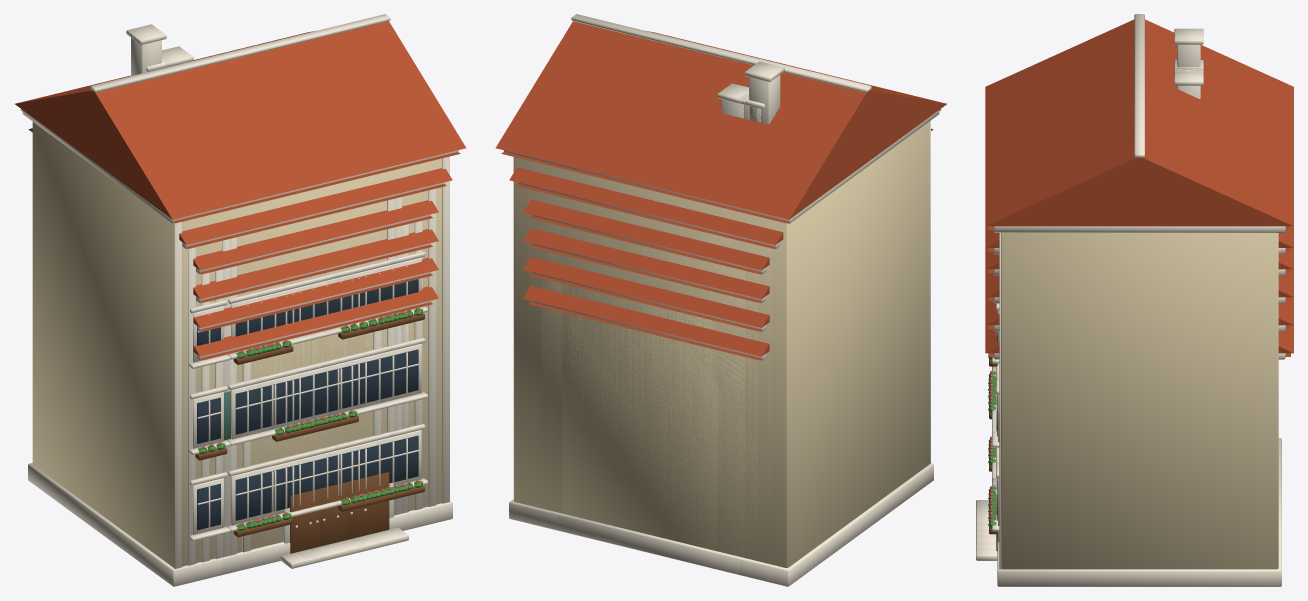
Rendered from Houses.fbx.
The picture shows the model from 3 angles, left to right: view 1: azimuth 30°, elevation 25°; view 2: azimuth 150°, elevation 25°; view 3: azimuth 270°, elevation 25°; orthographic projection. The views are drawn at different scales.
Parts seen in each view (by area): view 1: House_10_13, House_8_10, House_9_12, House_7_11, House_6p5_12, House_5_9, House_6_12, House_6_10, House_8_11, House_7_8, House_7_9, House_6_8 (+4 smaller); view 2: House_10_13, House_9_12, House_7_11, House_5_9, House_6p5_12, House_7_8, House_8_9, House_8_10, House_7_9, House_6p5_9, House_6_10, House_6_12 (+4 smaller); view 3: House_10_13, House_9_12, House_8_10, House_6_12, House_8_8, House_7_9, House_6_10, House_5_9, House_8_11, House_7_11, House_8_9.
Part boxes in pixels (x1,y1,x2,y2): House_10_13: (15,14,466,586); House_8_10: (193,229,438,579); House_9_12: (28,59,452,582); House_7_11: (206,202,424,576); House_6p5_12: (162,47,418,574); House_5_9: (235,282,391,569); House_6_12: (162,46,411,555); House_6_10: (221,237,411,573); House_8_11: (193,200,438,559); House_7_8: (208,291,424,558); House_7_9: (207,262,424,556); House_6_8: (222,295,411,552); House_10_13: (495,14,946,586); House_9_12: (509,93,933,583); House_7_11: (537,203,755,576); House_5_9: (570,283,727,569); House_6p5_12: (543,86,748,574); House_7_8: (537,289,755,557); House_8_9: (523,257,769,559); House_8_10: (523,228,769,565); House_7_9: (537,260,755,556); House_6p5_9: (549,277,747,532); House_6_10: (551,235,741,573); House_6_12: (551,83,748,509); House_10_13: (976,14,1293,586); House_9_12: (976,60,1293,564); House_8_10: (976,273,1293,557); House_6_12: (985,69,1293,499); House_8_8: (985,325,1293,359); House_7_9: (985,297,1293,508); House_6_10: (976,269,1293,544); House_5_9: (976,366,1281,537); House_8_11: (985,248,1293,275); House_7_11: (976,248,1293,548); House_8_9: (985,302,1293,331).
Size of the model in its own units: 10.8 by 16.27 by 10.3.
